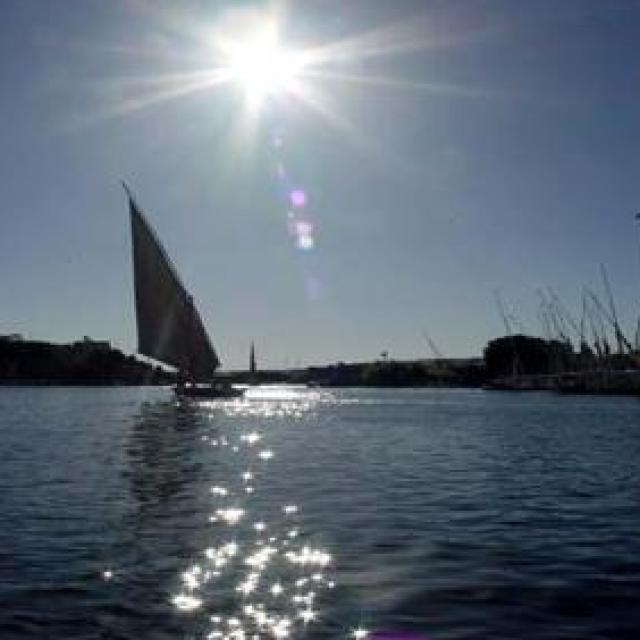sailboat: (116, 175, 246, 402)
